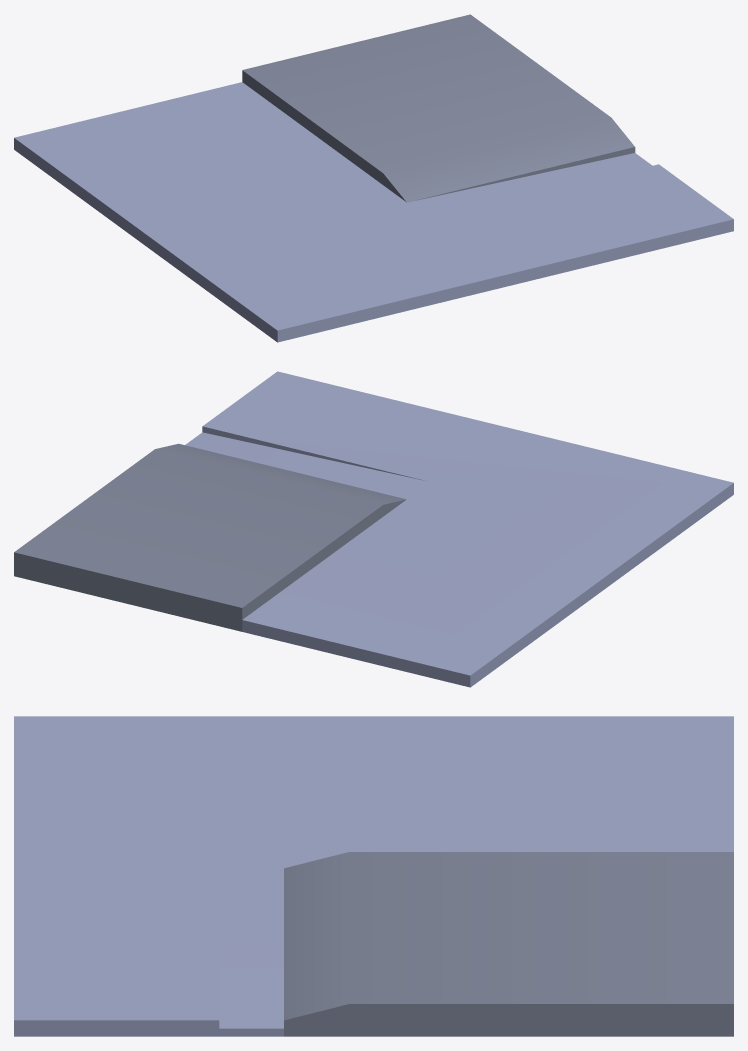
File: road-curb-end.glb
3 renders of one model, top to bottom at view 1: azimuth 30°, elevation 25°; view 2: azimuth 150°, elevation 25°; view 3: azimuth 270°, elevation 25°, orthographic. The views are drawn at different scales.
Visible parts, largest first — view 1: road-curb-end; view 2: road-curb-end; view 3: road-curb-end.
Part boxes in pixels (x1=…): road-curb-end: x1=14, y1=14, x2=733, y2=342; road-curb-end: x1=14, y1=371, x2=733, y2=687; road-curb-end: x1=14, y1=716, x2=733, y2=1036.
Bounding box in the file's own units: 1 × 0.0501 × 1.
1 material, 1 textured.
